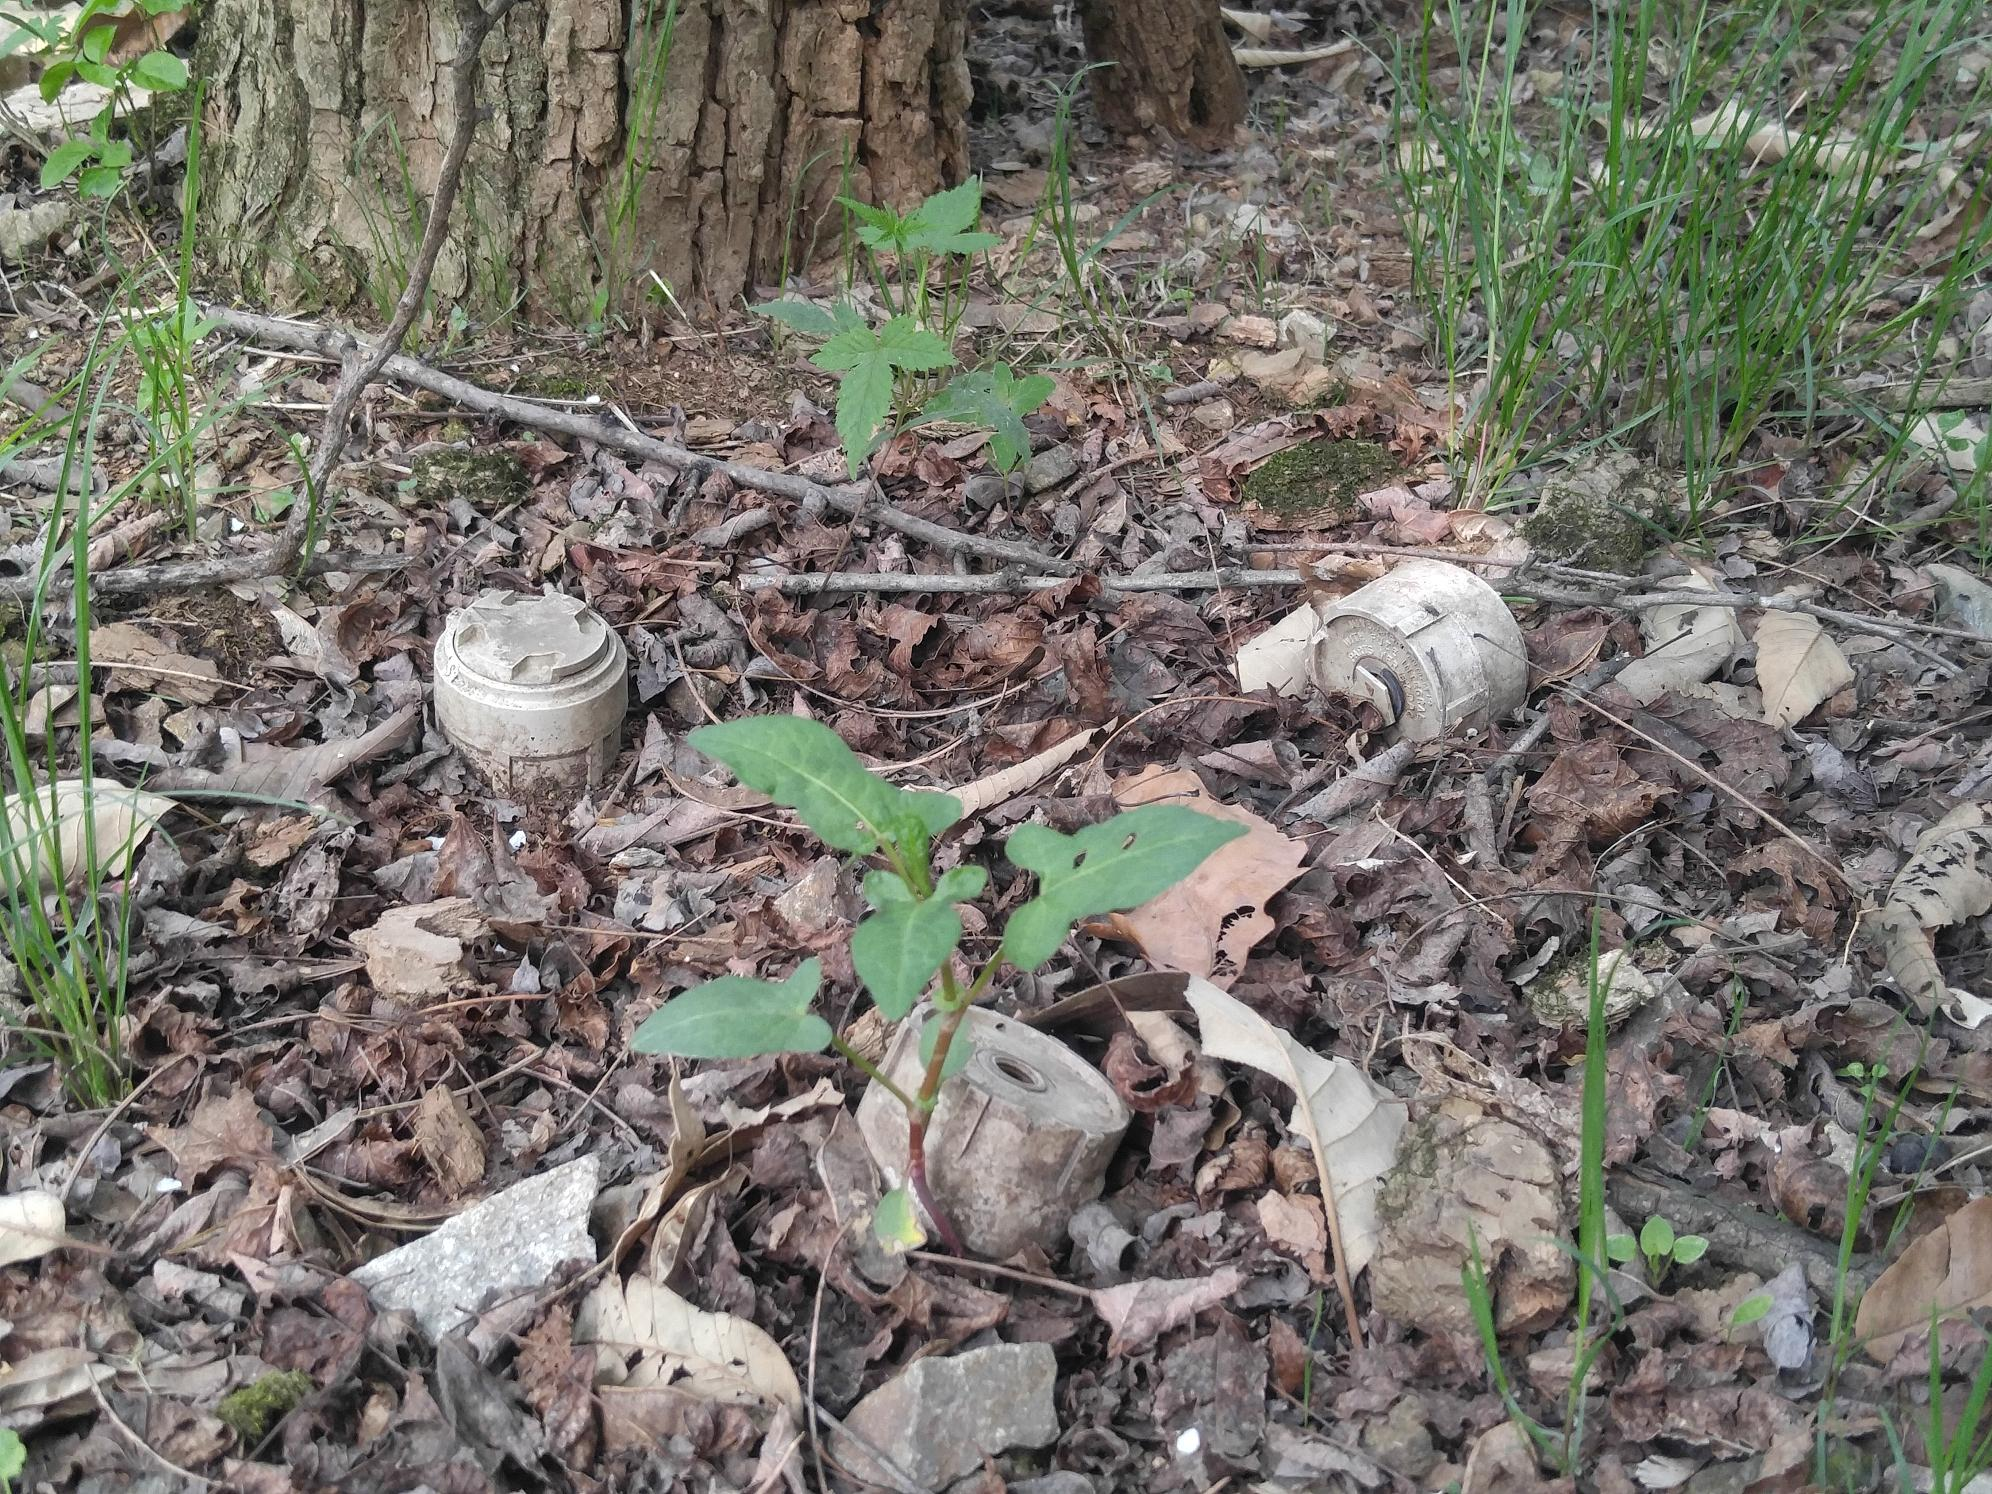pmn: (841, 993, 1143, 1279), (425, 574, 638, 811), (1307, 548, 1539, 753)
